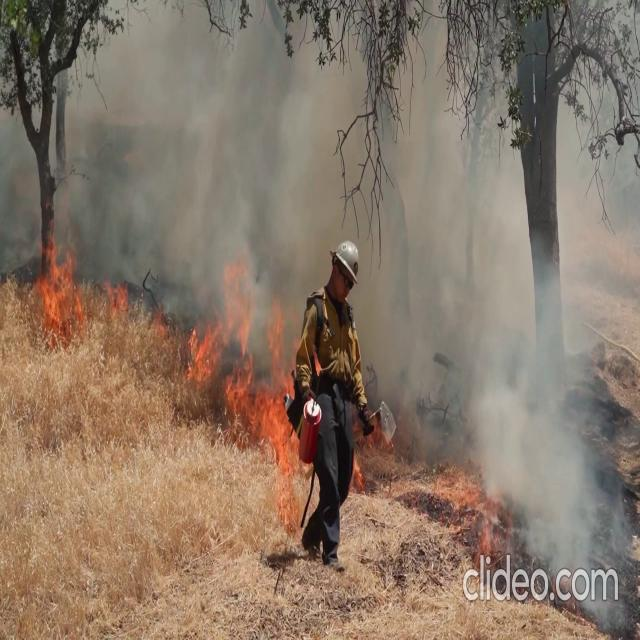Fire: (185, 257, 285, 421), (13, 224, 135, 330)
Smoke: (373, 44, 635, 588), (4, 16, 332, 286)
